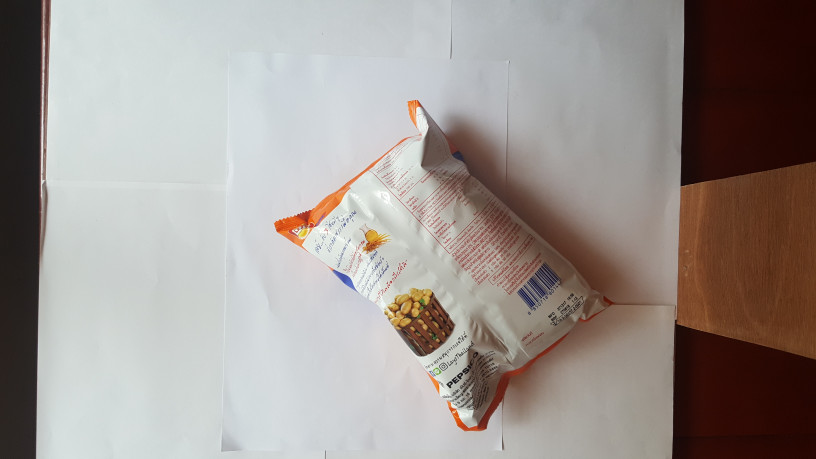lays-bbq: (276, 102, 616, 439)
